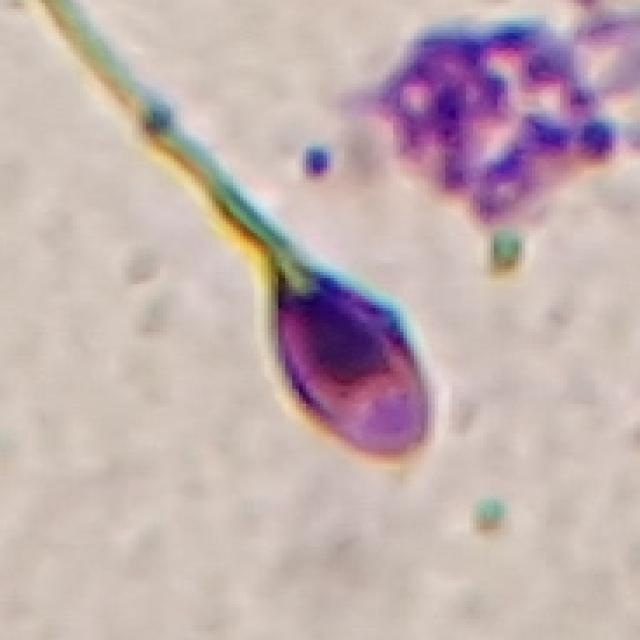normal sperm: (224, 200, 436, 461)
